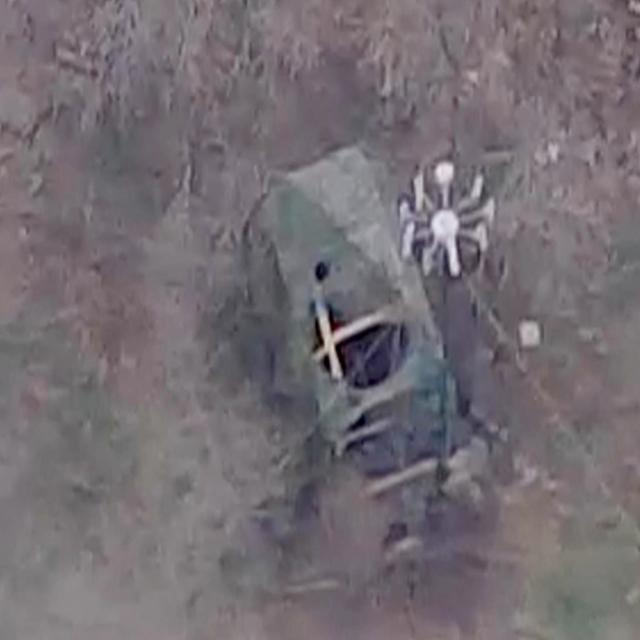vehicle: (245, 147, 495, 581)
